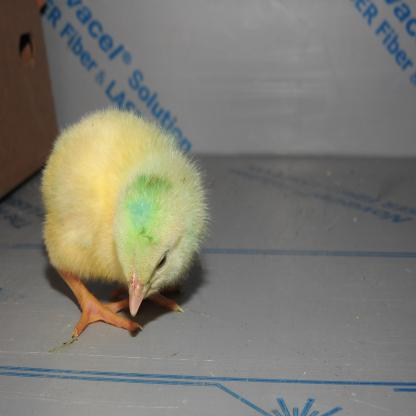Chickrotationtrack_idkeyframe: (33, 104, 232, 339)
